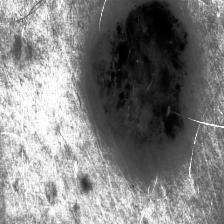Benign Marking or Mole: (86, 0, 195, 180)
